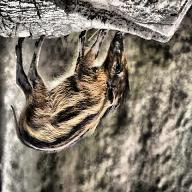boar: (9, 22, 142, 158)
